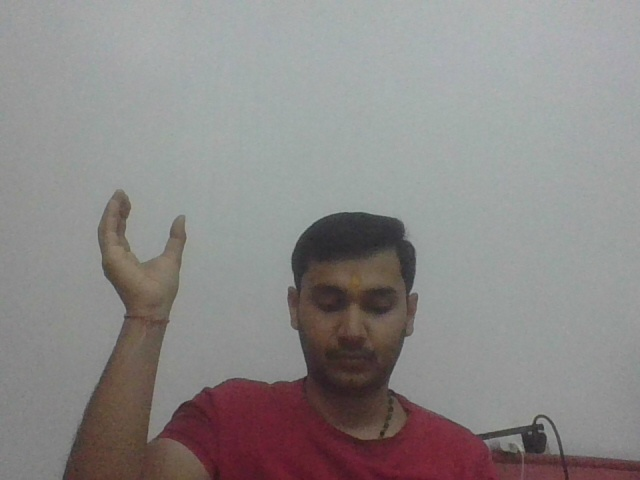U: (93, 186, 190, 314)
